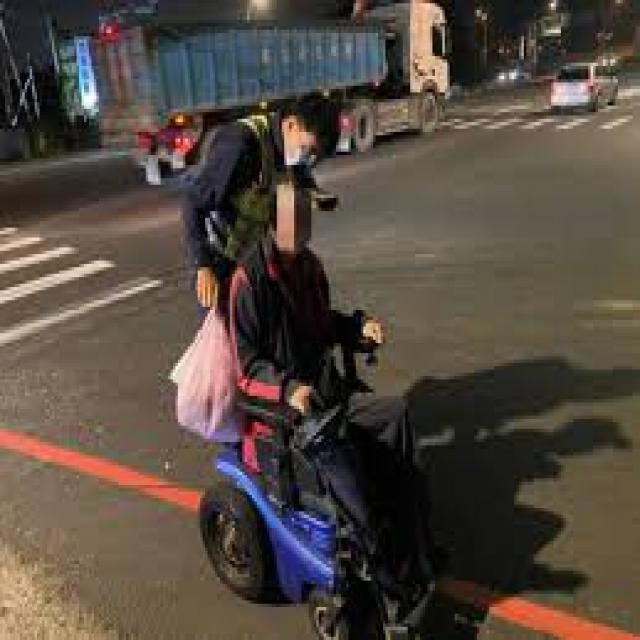wheelchairs: (198, 264, 452, 637)
